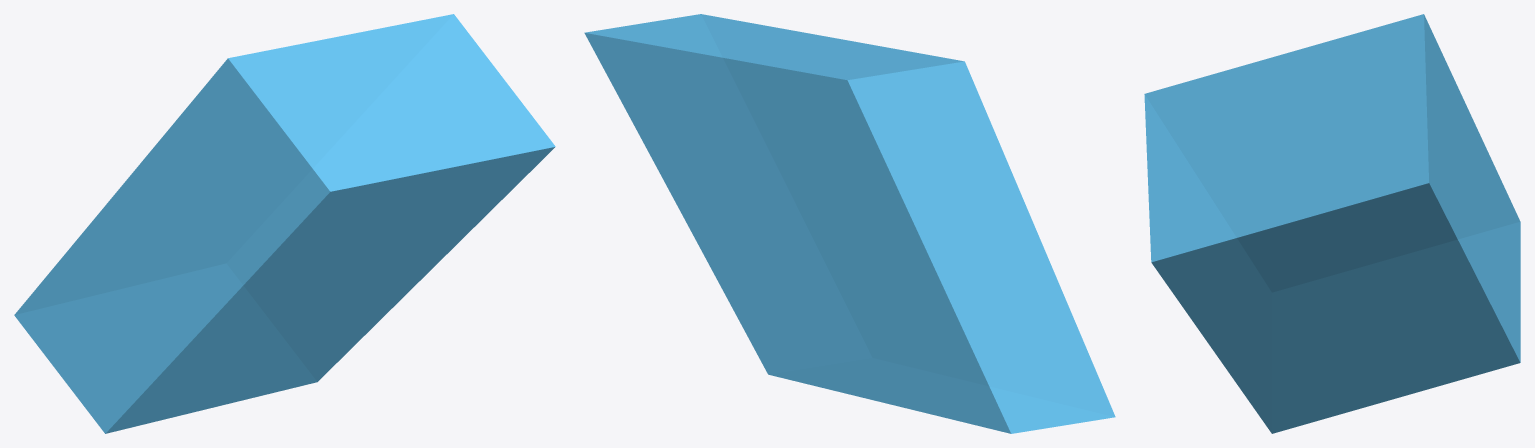
The model's file is Event_420604493_HBrechit_36.fbx.
3 views of the same model, side by side, from view 1: azimuth 30°, elevation 25°; view 2: azimuth 150°, elevation 25°; view 3: azimuth 270°, elevation 25° (orthographic). The views are drawn at different scales.
Parts seen in each view (by area): view 1: Model; view 2: Model; view 3: Model.
Boxes of the visible parts, box(x1,y1,x2,y2) form: Model: box(14, 14, 555, 433); Model: box(584, 14, 1115, 433); Model: box(1144, 14, 1520, 433).
Bounding box in the file's own units: 0.9864 × 0.676 × 0.5797.
